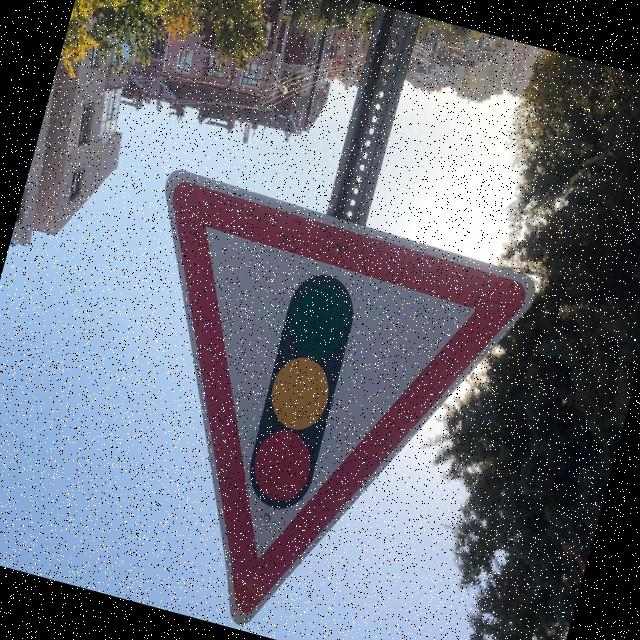light_traffic: (57, 169, 538, 640)
